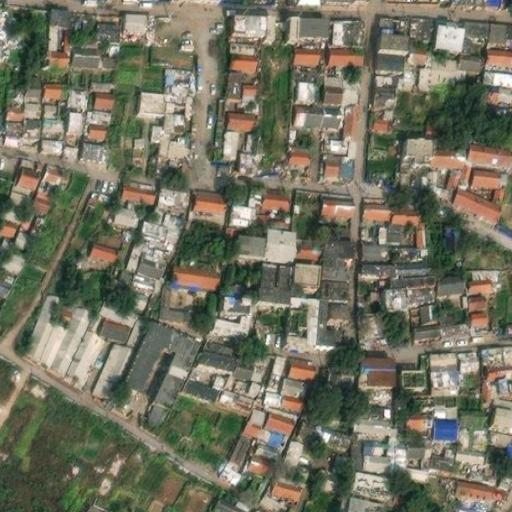building: (113, 312, 201, 422), (52, 298, 93, 366), (23, 286, 63, 353), (93, 333, 133, 394), (37, 297, 75, 360), (65, 321, 105, 378), (286, 288, 320, 341), (91, 294, 138, 326), (453, 183, 499, 215), (259, 253, 293, 295), (143, 198, 182, 234), (266, 221, 298, 256), (360, 307, 392, 342), (401, 162, 440, 190), (351, 465, 388, 493), (386, 281, 436, 301), (440, 305, 473, 335), (0, 239, 30, 272), (421, 56, 455, 84), (98, 311, 133, 338), (347, 488, 386, 512), (140, 227, 176, 252), (436, 17, 467, 46), (174, 260, 220, 279), (288, 433, 316, 464), (319, 249, 351, 276), (328, 360, 360, 387), (456, 494, 503, 512), (170, 277, 205, 301), (218, 381, 253, 405), (158, 179, 189, 205), (0, 7, 16, 57), (213, 306, 249, 328), (163, 123, 191, 151), (390, 265, 436, 282), (428, 364, 459, 389), (231, 424, 252, 460), (368, 125, 396, 152), (354, 408, 386, 431), (376, 43, 409, 65), (291, 256, 321, 280), (455, 475, 495, 493), (321, 190, 355, 211), (62, 102, 84, 134), (469, 138, 510, 155), (194, 184, 224, 207), (381, 21, 411, 44), (122, 177, 156, 197), (288, 350, 316, 374), (238, 145, 266, 169), (230, 10, 261, 31), (167, 62, 192, 88), (433, 142, 469, 160), (200, 342, 234, 361), (387, 237, 425, 254), (139, 84, 167, 107), (133, 264, 159, 288), (318, 274, 349, 294), (187, 373, 216, 394), (493, 371, 512, 403), (124, 7, 149, 31), (40, 156, 65, 180), (265, 408, 295, 428), (191, 354, 217, 377), (164, 103, 191, 125), (485, 77, 512, 99), (214, 493, 245, 512), (240, 228, 268, 249), (444, 219, 464, 248), (0, 265, 18, 297), (8, 174, 31, 199), (343, 12, 366, 37), (140, 247, 166, 269), (84, 84, 112, 104), (456, 403, 487, 421), (229, 196, 253, 219), (230, 46, 259, 65), (91, 235, 116, 257), (372, 103, 397, 125), (263, 397, 299, 412), (272, 474, 300, 493), (300, 11, 328, 30), (406, 129, 434, 148), (428, 345, 456, 364), (47, 0, 73, 20), (242, 449, 268, 469), (250, 349, 270, 375), (459, 343, 479, 369), (486, 58, 512, 78), (474, 162, 501, 181), (82, 134, 109, 153), (135, 131, 152, 161), (64, 80, 86, 103), (41, 74, 65, 95), (316, 311, 334, 339), (281, 369, 305, 390), (491, 400, 512, 424), (406, 406, 427, 430), (166, 86, 192, 105), (457, 45, 483, 64), (224, 289, 253, 306), (223, 124, 240, 153), (366, 362, 395, 379), (83, 117, 110, 135), (489, 15, 507, 42), (362, 448, 389, 466), (34, 173, 56, 195), (19, 160, 42, 181), (116, 200, 140, 220), (213, 358, 233, 382), (361, 257, 395, 271), (435, 270, 464, 286), (376, 64, 397, 86), (482, 340, 504, 361), (47, 42, 70, 62), (450, 160, 470, 183), (361, 236, 388, 253), (40, 94, 64, 113), (39, 112, 63, 131), (229, 106, 253, 125), (488, 40, 512, 59), (263, 188, 291, 204), (202, 334, 234, 348), (364, 197, 390, 214), (430, 395, 456, 412), (410, 11, 432, 31), (467, 421, 486, 444), (329, 42, 358, 57), (295, 238, 322, 254), (402, 363, 426, 381), (488, 357, 512, 375), (430, 412, 454, 430), (126, 238, 141, 266), (324, 57, 342, 80), (84, 103, 111, 118), (364, 350, 395, 363), (75, 47, 100, 63), (38, 130, 63, 146), (466, 13, 491, 29), (395, 256, 435, 266), (391, 207, 419, 221), (282, 387, 305, 404), (374, 86, 397, 103), (44, 17, 59, 43), (322, 133, 348, 148), (352, 430, 363, 465), (294, 41, 318, 57), (30, 190, 50, 209), (323, 101, 341, 122), (62, 133, 83, 151), (230, 31, 255, 46), (297, 74, 314, 96), (473, 261, 499, 275), (306, 101, 324, 121), (468, 285, 488, 303), (494, 421, 512, 441), (21, 123, 39, 143), (328, 296, 349, 313), (85, 73, 112, 85), (230, 65, 242, 92), (482, 375, 500, 393), (324, 80, 341, 99), (226, 92, 249, 106), (264, 384, 284, 400), (389, 421, 397, 460), (6, 97, 24, 114), (250, 401, 267, 419), (407, 437, 425, 454), (400, 220, 416, 239), (271, 348, 286, 368), (232, 357, 252, 372), (407, 462, 427, 477), (289, 144, 310, 158), (7, 81, 24, 98), (23, 96, 41, 112), (269, 424, 285, 442), (393, 11, 411, 27), (457, 444, 481, 456), (386, 219, 401, 238), (470, 274, 493, 286), (260, 11, 271, 36), (410, 31, 431, 44), (248, 182, 264, 199), (420, 300, 436, 317), (473, 302, 489, 319), (5, 113, 23, 128), (322, 121, 342, 134), (234, 369, 250, 385), (24, 70, 42, 84), (395, 441, 407, 462), (289, 10, 300, 32), (247, 372, 262, 388), (295, 100, 307, 120), (325, 157, 341, 172), (409, 44, 429, 56), (24, 83, 41, 97), (243, 415, 260, 429), (22, 111, 40, 124), (152, 118, 165, 136), (334, 12, 343, 37), (415, 215, 424, 240), (340, 503, 365, 512), (327, 311, 347, 322), (318, 291, 329, 311), (363, 430, 374, 449), (456, 421, 467, 440), (5, 127, 22, 139), (378, 218, 387, 237), (503, 339, 512, 358), (242, 79, 255, 92), (326, 147, 342, 157), (195, 278, 206, 291), (381, 11, 393, 21), (374, 438, 382, 449), (506, 16, 512, 30), (506, 30, 512, 42), (508, 436, 512, 449), (509, 375, 512, 385)
